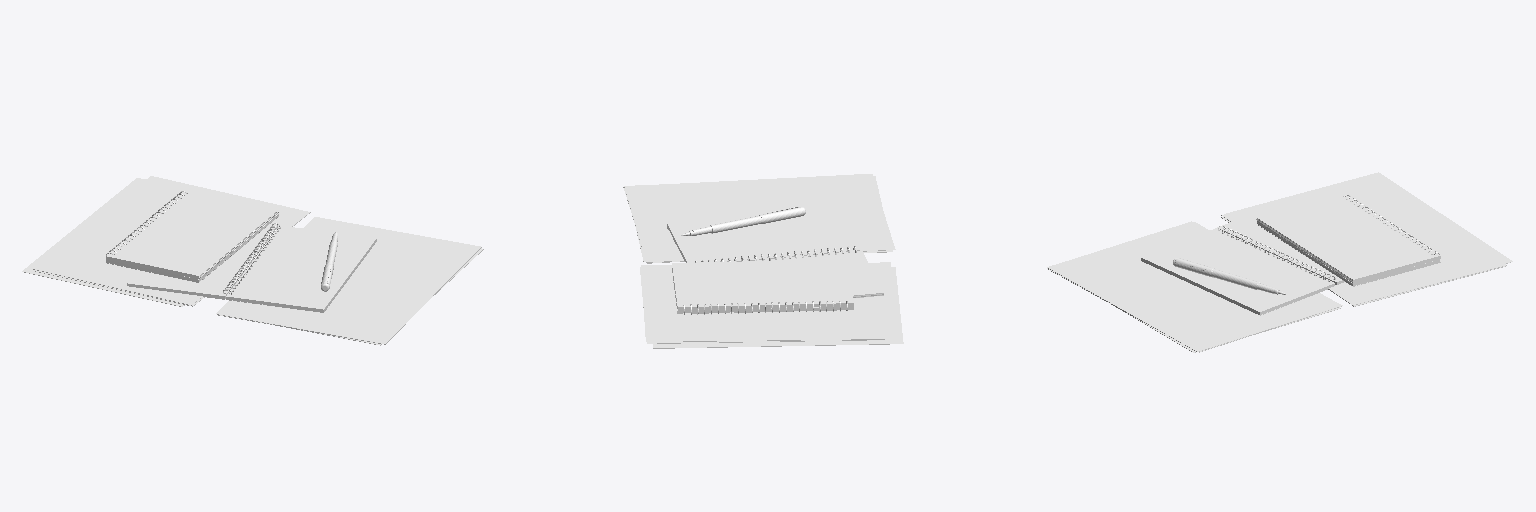
The model's file is notebook-set.obj.
The picture shows the model from 3 angles: view 1: azimuth 30°, elevation 25°; view 2: azimuth 150°, elevation 25°; view 3: azimuth 270°, elevation 25°; orthographic projection.
Visible parts, largest first — view 1: notebook-set; view 2: notebook-set; view 3: notebook-set.
Boxes of the visible parts, x1,y1,x2,y2 form: notebook-set: [22, 176, 483, 345]; notebook-set: [623, 174, 903, 348]; notebook-set: [1047, 172, 1512, 352].
Size of the model in its own units: 0.5734 by 0.0206 by 0.6263.